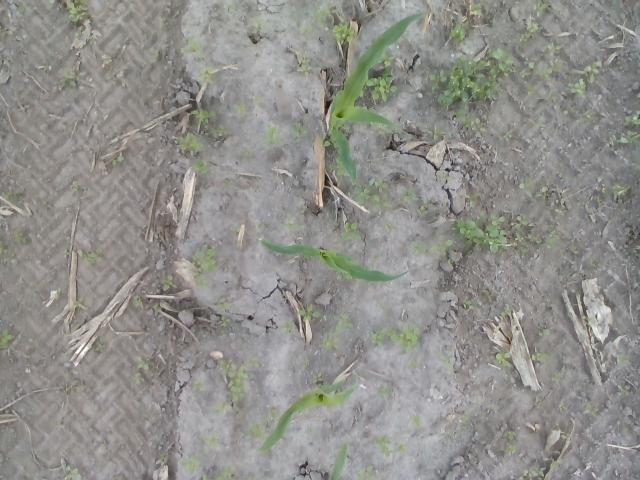Maize: (324, 12, 424, 184), (255, 376, 360, 452), (260, 236, 410, 284), (327, 440, 348, 480)
Weeds: (428, 48, 514, 141), (449, 208, 544, 258), (218, 353, 260, 401), (366, 320, 422, 354), (350, 173, 392, 212), (191, 241, 221, 290), (364, 68, 402, 106), (301, 0, 336, 35), (48, 0, 92, 25), (613, 109, 640, 145), (375, 432, 410, 459), (517, 60, 560, 81), (0, 230, 33, 257), (518, 174, 551, 200), (176, 454, 209, 480), (174, 130, 207, 155), (192, 64, 226, 88), (411, 238, 454, 255), (128, 358, 154, 384), (200, 464, 240, 480), (56, 68, 82, 92), (496, 430, 520, 456), (516, 20, 538, 48), (332, 20, 356, 44), (190, 108, 226, 124), (318, 333, 344, 354), (0, 318, 17, 350), (240, 421, 270, 439), (332, 309, 354, 333), (515, 463, 546, 480), (279, 212, 305, 232), (182, 36, 206, 57), (583, 60, 605, 82), (448, 20, 468, 44), (564, 76, 588, 96), (262, 122, 282, 146), (290, 120, 310, 144), (191, 377, 210, 402), (340, 222, 364, 241), (62, 463, 88, 480), (78, 247, 99, 268), (544, 229, 566, 249), (297, 302, 321, 320), (1, 189, 23, 208), (607, 182, 633, 198), (200, 432, 223, 450), (438, 352, 460, 370), (298, 55, 314, 78), (495, 351, 515, 369), (398, 186, 418, 204), (356, 463, 376, 480), (216, 316, 232, 336), (526, 352, 554, 363), (379, 48, 397, 65), (280, 319, 298, 336), (223, 0, 240, 17), (376, 384, 394, 400), (192, 158, 208, 176), (215, 401, 234, 416), (458, 414, 473, 433), (464, 191, 480, 208), (162, 273, 178, 290), (533, 0, 551, 15), (582, 402, 600, 417), (215, 295, 233, 310), (540, 42, 562, 54), (207, 126, 227, 138), (90, 336, 104, 353), (160, 15, 174, 32), (550, 208, 568, 221), (36, 62, 59, 72), (462, 296, 481, 308), (310, 372, 326, 386), (482, 288, 496, 304), (300, 423, 320, 434), (548, 372, 563, 386), (256, 20, 276, 30), (232, 99, 246, 113), (112, 152, 125, 167), (266, 406, 278, 422), (410, 415, 424, 428), (469, 0, 481, 15), (536, 111, 546, 129), (560, 104, 578, 114), (547, 458, 560, 471), (526, 82, 538, 96), (580, 110, 594, 122), (402, 359, 418, 369), (566, 242, 578, 255), (536, 327, 552, 336), (418, 204, 430, 216), (612, 354, 626, 364), (152, 302, 162, 316), (159, 449, 170, 461), (582, 315, 593, 326), (72, 181, 82, 193), (590, 258, 602, 268), (302, 360, 314, 370), (500, 306, 512, 316), (384, 220, 394, 230), (222, 179, 232, 189), (447, 254, 457, 264), (231, 226, 240, 237), (74, 298, 82, 310), (70, 31, 80, 40), (624, 424, 634, 433), (134, 296, 144, 305), (104, 57, 114, 65)
